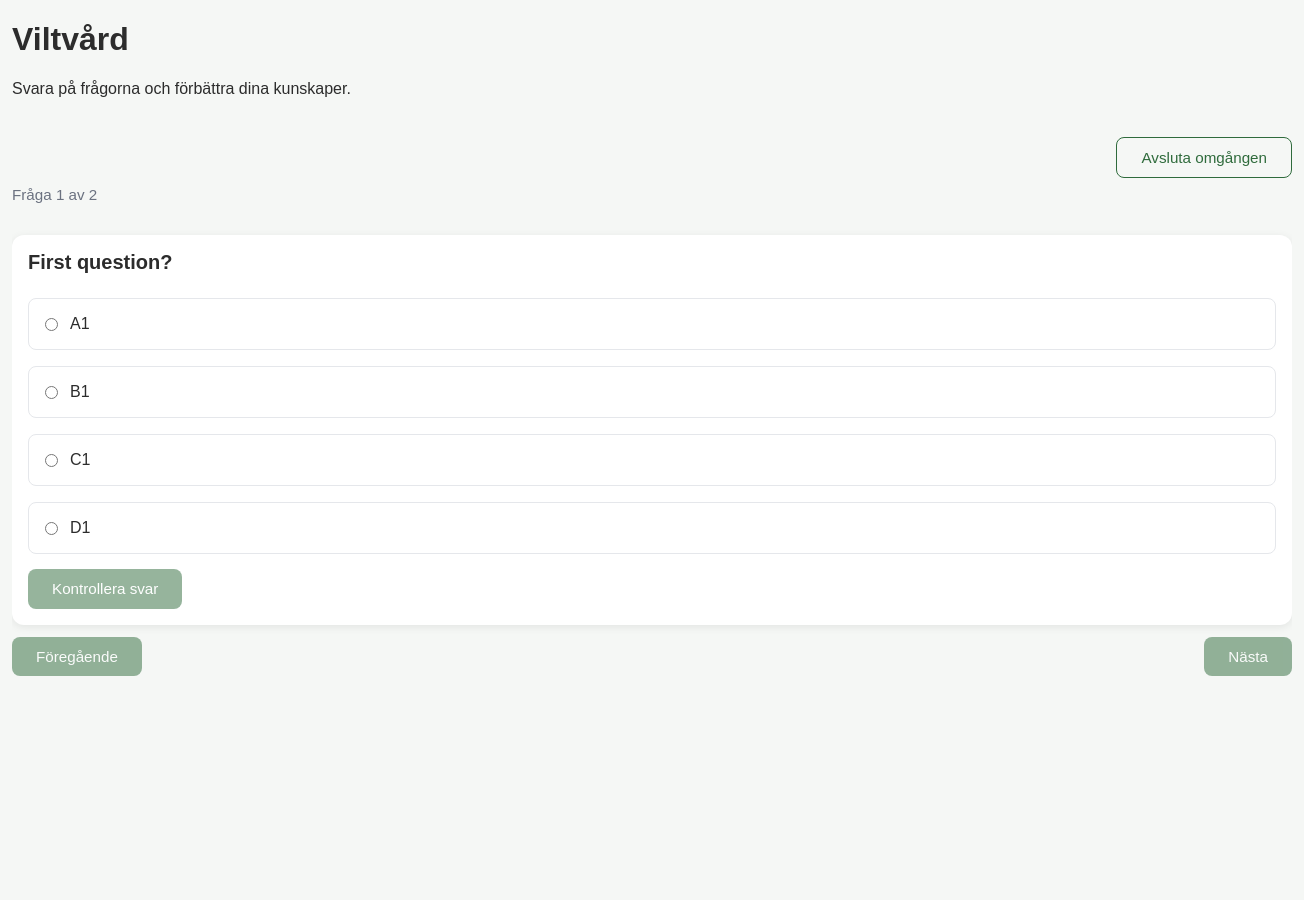
Scenario: PracticeQuestions › shows an answered question read-only after going back
Step 1. Click the radio button labelled "B1" → (52, 392), box [45,386,58,399]
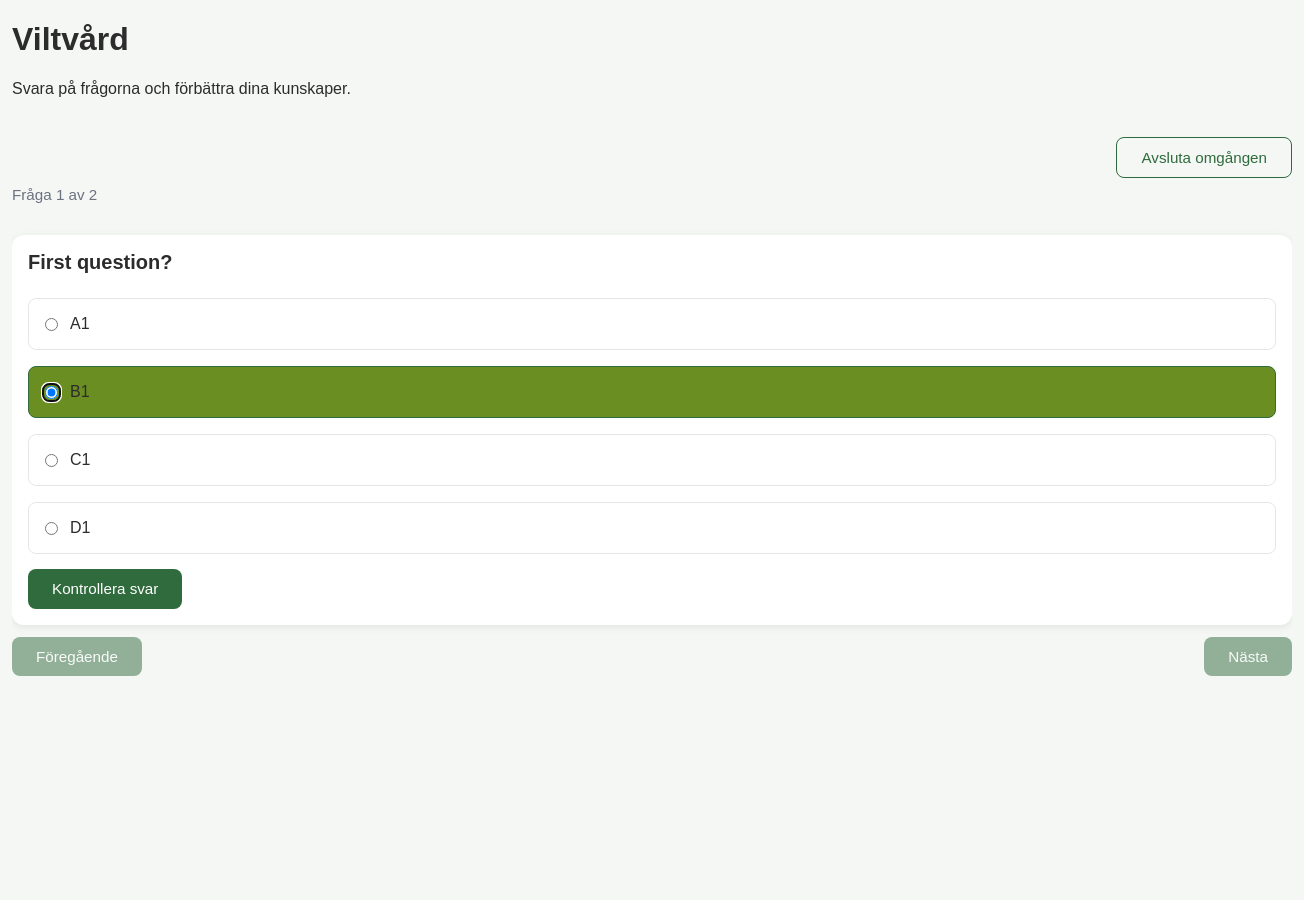
Step 2. Click the button "Kontrollera svar" → (105, 589), box [28,569,182,609]
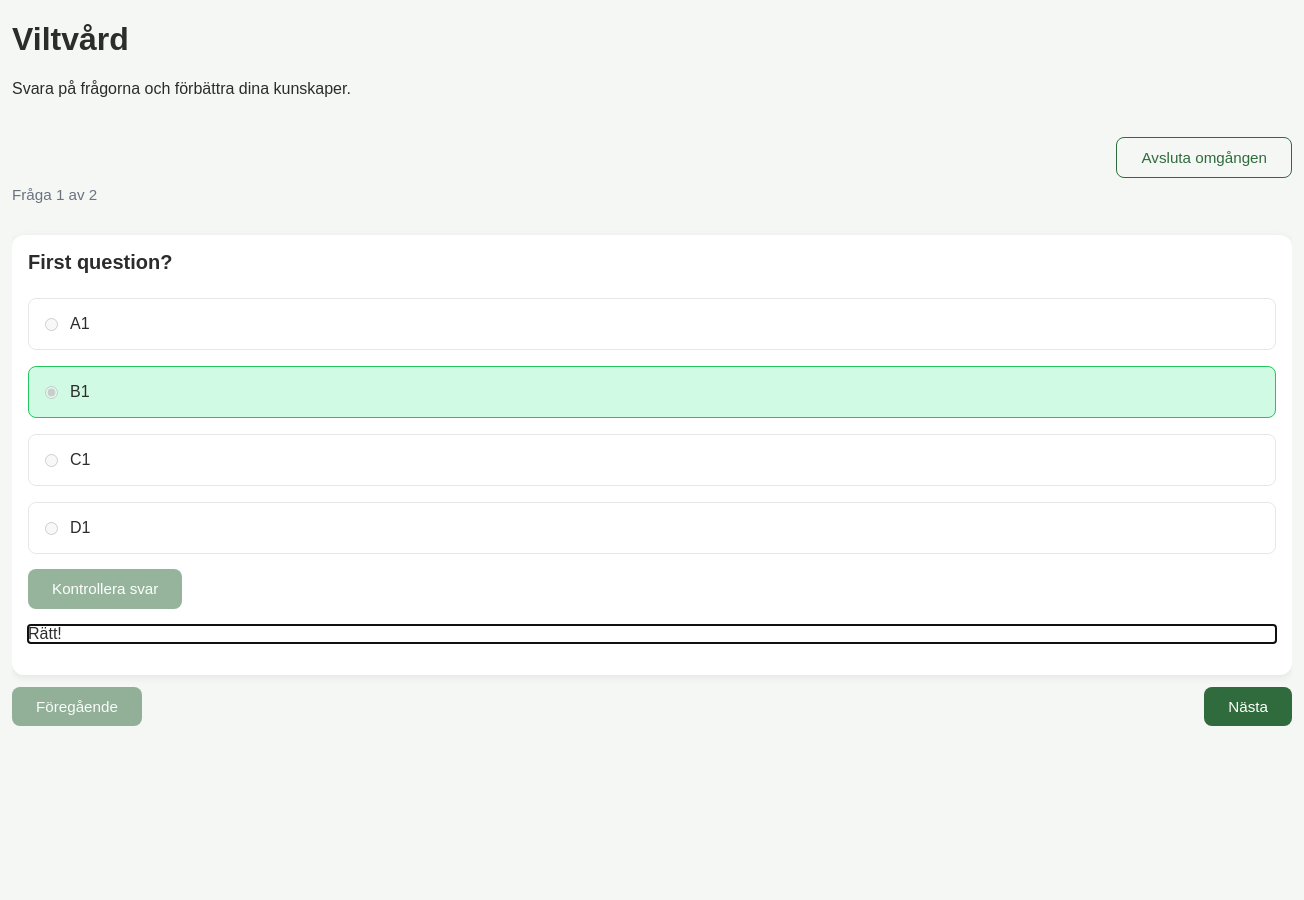
Step 3. Click the button "Nästa" → (1248, 706), box [1204,687,1292,726]
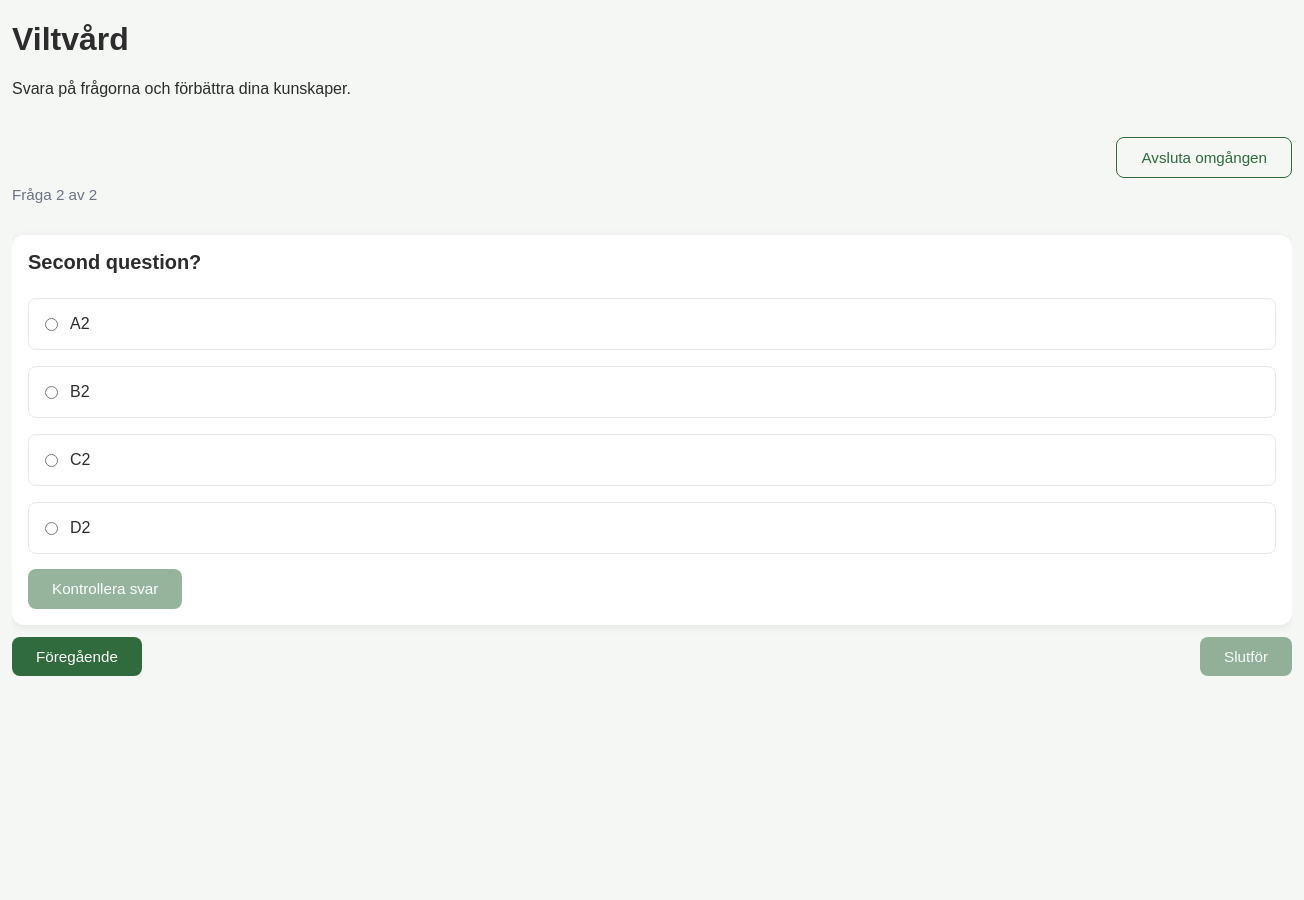
Expected: the heading "Second question?" is shown, [28,251,201,273]
Step 4. Click the button "Föregående" → (77, 656), box [12,637,142,676]
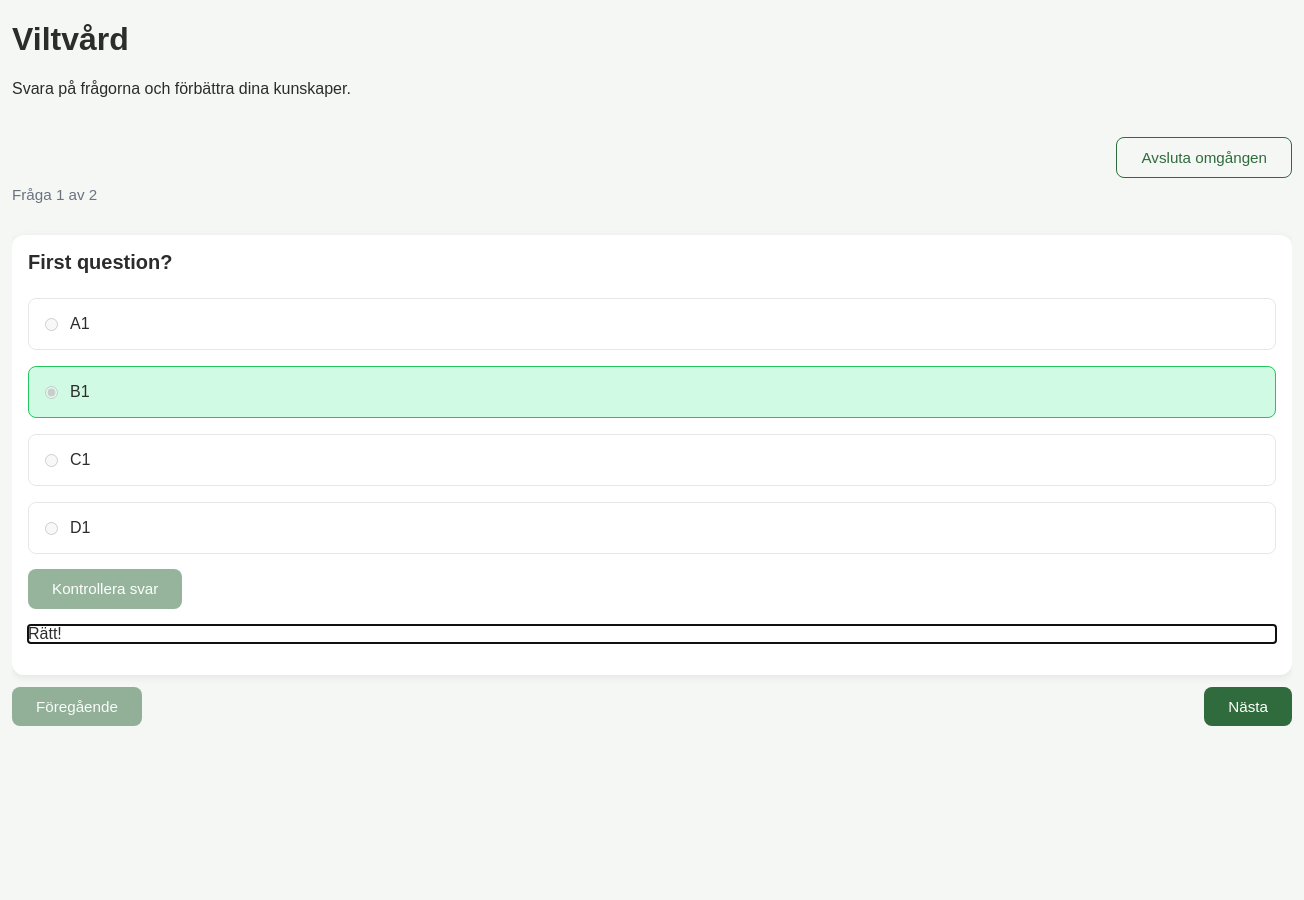
Expected: the radio button labelled "B1" is checked, [45,386,58,399]
Expected: the text "Rätt!" is shown, [28,625,62,642]
Expected: the radio button labelled "A1" is disabled, [45,318,58,331]
